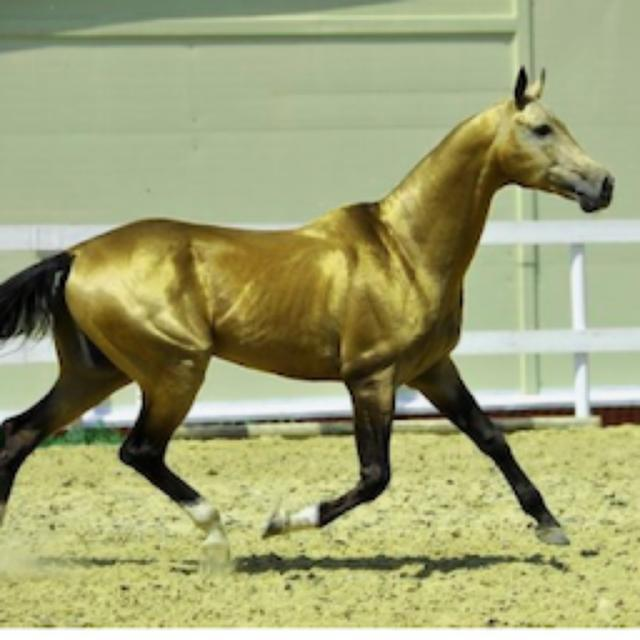Horse: (2, 60, 622, 580)
